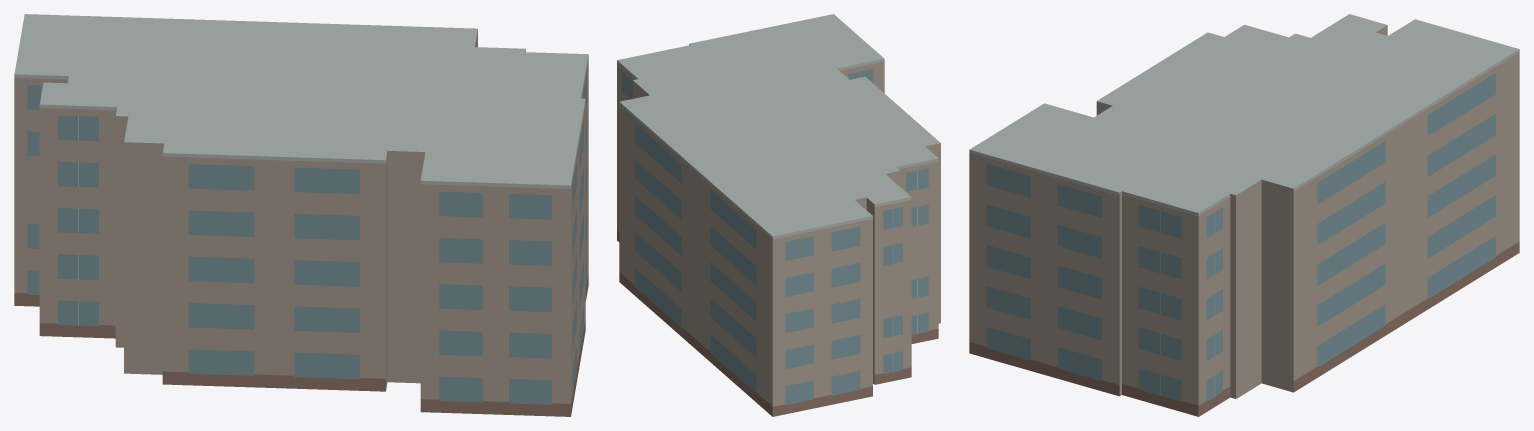
Rendered from survey-upis-32998529.glb.
3 views of the same model, side by side, from view 1: azimuth 30°, elevation 25°; view 2: azimuth 150°, elevation 25°; view 3: azimuth 270°, elevation 25° (orthographic). The views are drawn at different scales.
Visible parts, largest first — view 1: survey-upis-32998529.tmp; view 2: survey-upis-32998529.tmp; view 3: survey-upis-32998529.tmp.
Boxes of the visible parts, x1,y1,x2,y2 form: survey-upis-32998529.tmp: (14, 14, 588, 416); survey-upis-32998529.tmp: (617, 14, 940, 416); survey-upis-32998529.tmp: (969, 14, 1519, 416).
Size of the model in its own units: 33.12 by 15.8 by 38.66.
